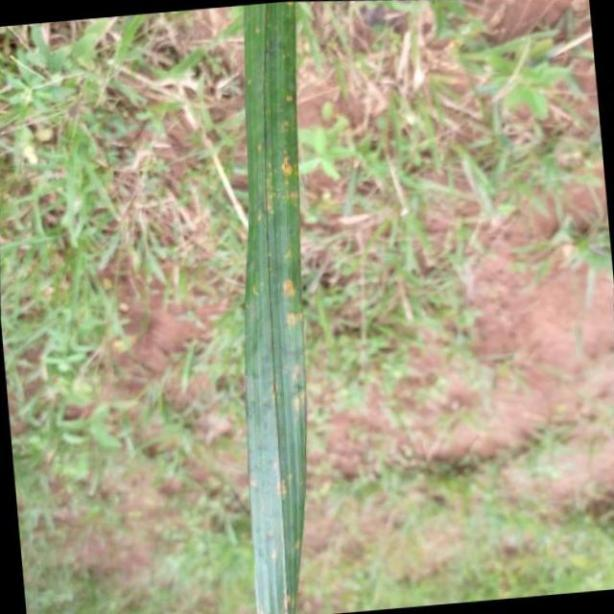Kalium: (241, 0, 308, 614)
